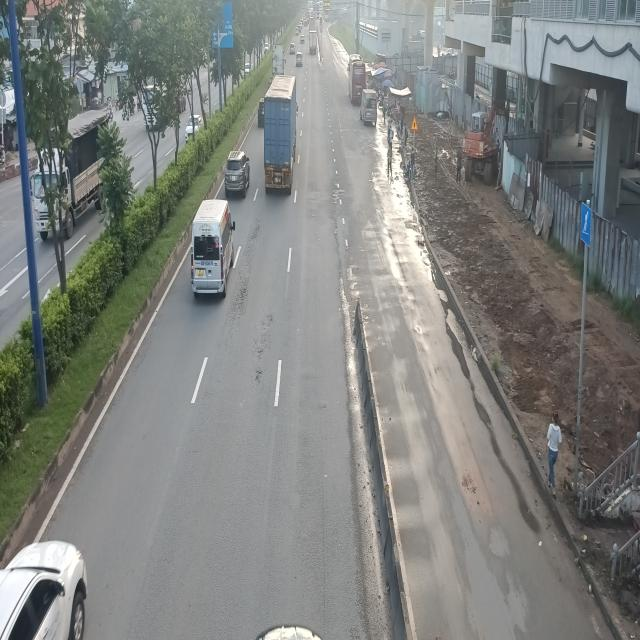car: (223, 151, 250, 198)
coach: (349, 56, 367, 104)
container: (263, 74, 298, 196)
van: (192, 196, 237, 298), (360, 90, 377, 126)
